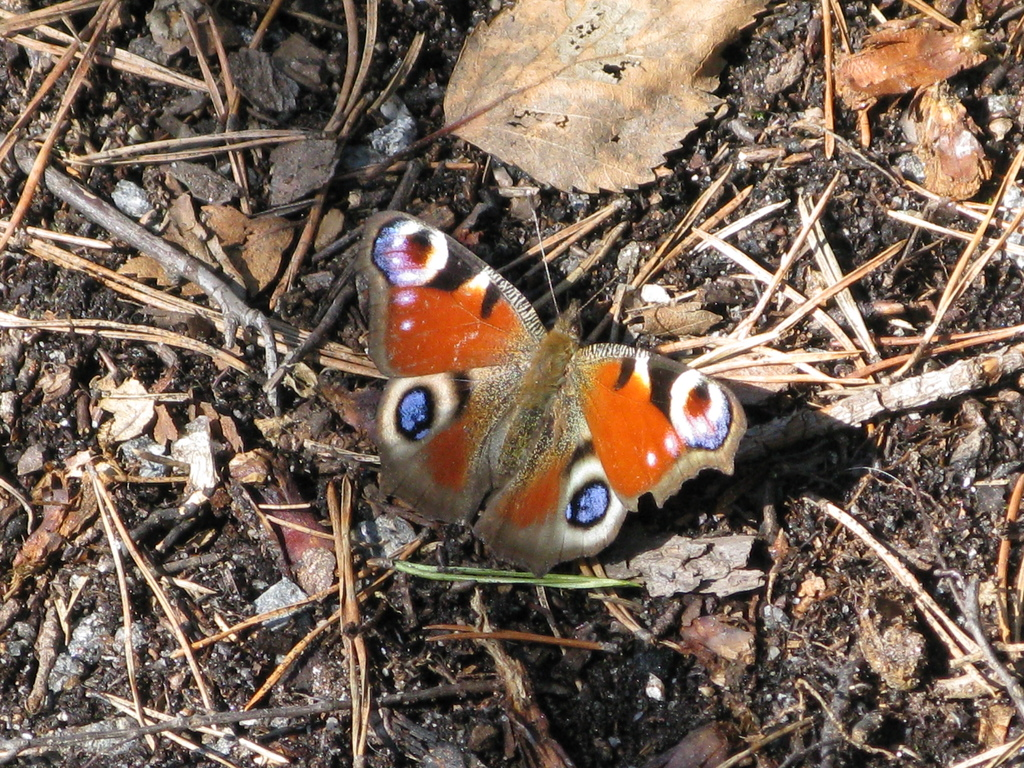Butterfly: (312, 172, 798, 588)
